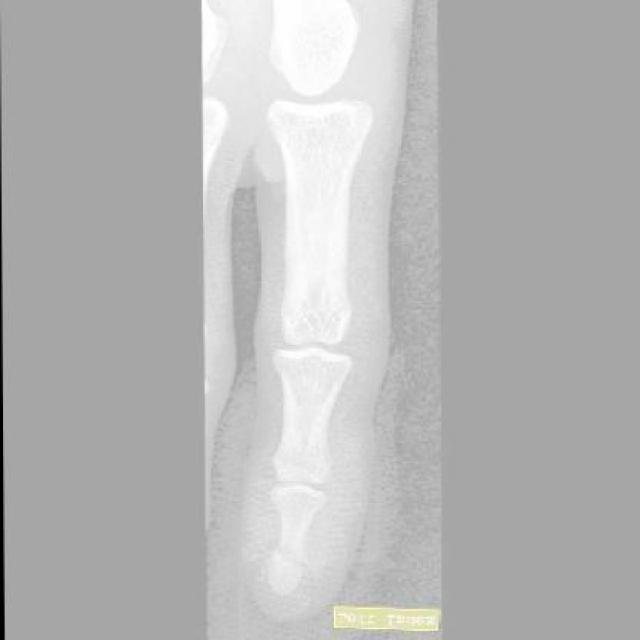Fracture: (262, 532, 309, 585)
